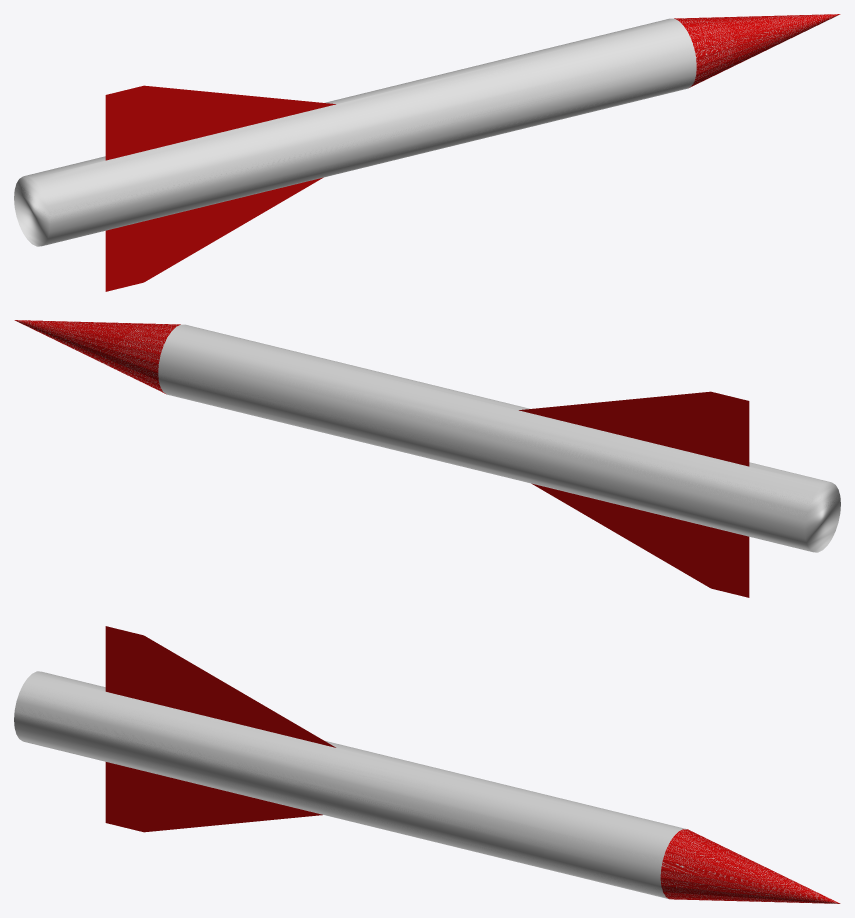
File: rocket.dae
The picture shows the model from 3 angles, top to bottom: view 1: azimuth 30°, elevation 25°; view 2: azimuth 150°, elevation 25°; view 3: azimuth 330°, elevation 25°; orthographic projection.
Visible parts, largest first — view 1: coords_ME_ID13_MA_Rocket_part_3, coords_ME_ID19_MA_Rocket_part_2, coords_ME_ID27_MA_Rocket_part_2, coords_ME_ID3_MA_Rocket_part_1, coords_ME_ID3_MA_Rocket_part_3; view 2: coords_ME_ID13_MA_Rocket_part_3, coords_ME_ID19_MA_Rocket_part_2, coords_ME_ID27_MA_Rocket_part_2, coords_ME_ID3_MA_Rocket_part_1, coords_ME_ID3_MA_Rocket_part_3; view 3: coords_ME_ID13_MA_Rocket_part_3, coords_ME_ID19_MA_Rocket_part_2, coords_ME_ID27_MA_Rocket_part_2, coords_ME_ID3_MA_Rocket_part_1, coords_ME_ID3_MA_Rocket_part_3.
Boxes of the visible parts, x1,y1,x2,y2 form: coords_ME_ID13_MA_Rocket_part_3: (14,18,696,246); coords_ME_ID19_MA_Rocket_part_2: (105,85,335,160); coords_ME_ID27_MA_Rocket_part_2: (105,177,323,291); coords_ME_ID3_MA_Rocket_part_1: (674,14,840,87); coords_ME_ID3_MA_Rocket_part_3: (676,14,839,84); coords_ME_ID13_MA_Rocket_part_3: (158,324,840,552); coords_ME_ID19_MA_Rocket_part_2: (519,391,749,466); coords_ME_ID27_MA_Rocket_part_2: (531,483,749,597); coords_ME_ID3_MA_Rocket_part_1: (14,320,180,394); coords_ME_ID3_MA_Rocket_part_3: (18,320,176,391); coords_ME_ID13_MA_Rocket_part_3: (14,671,686,898); coords_ME_ID19_MA_Rocket_part_2: (105,626,335,747); coords_ME_ID27_MA_Rocket_part_2: (105,762,322,832); coords_ME_ID3_MA_Rocket_part_1: (660,829,840,903); coords_ME_ID3_MA_Rocket_part_3: (661,829,837,903).
Size of the model in its own units: 36.51 by 8.49 by 2.83.
